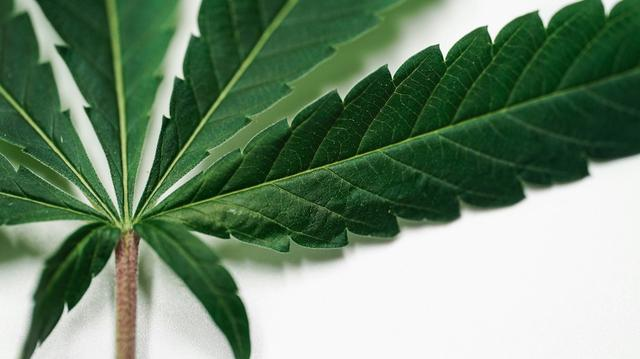Marijuana Bud: (1, 1, 640, 356)
